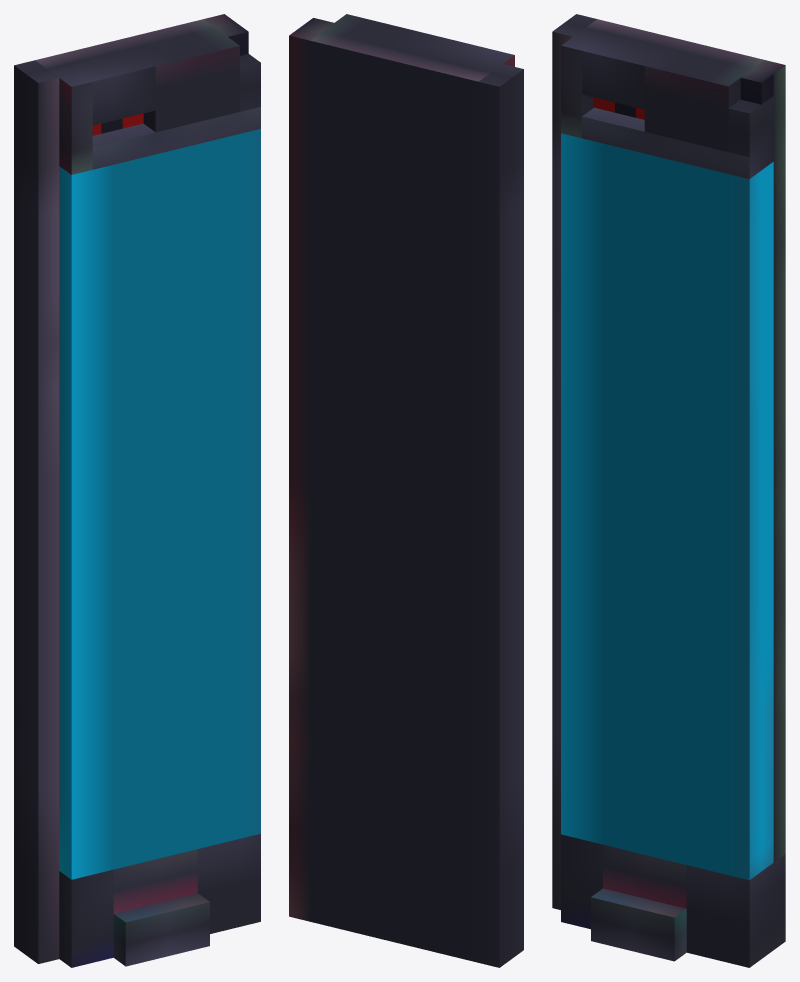
The model's file is Billboard_Sachio_D_00.fbx.
3 renders of one model, left to right at view 1: azimuth 30°, elevation 25°; view 2: azimuth 150°, elevation 25°; view 3: azimuth 330°, elevation 25°, orthographic.
Visible parts, largest first — view 1: Billboard_Sachio_D_00; view 2: Billboard_Sachio_D_00; view 3: Billboard_Sachio_D_00.
Boxes of the visible parts, left/top/right/bottom form: Billboard_Sachio_D_00: left=14, top=14, right=260, bottom=967; Billboard_Sachio_D_00: left=289, top=14, right=523, bottom=967; Billboard_Sachio_D_00: left=552, top=14, right=785, bottom=967.
Size of the model in its own units: 50 by 200 by 20.
